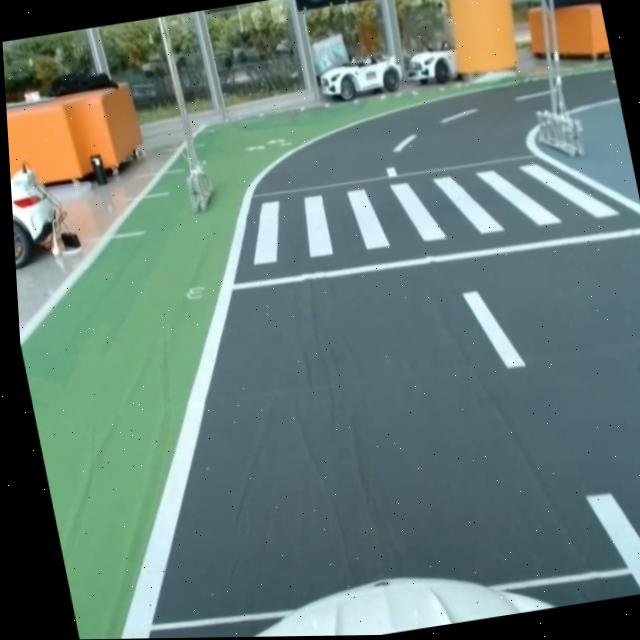traffic-light: (287, 0, 435, 19)
